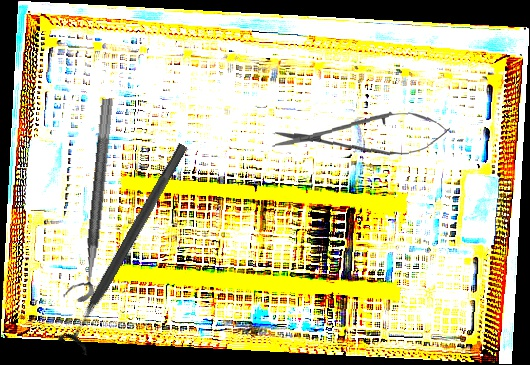Fixation Ring: (55, 136, 200, 357), (62, 96, 115, 304)
Micro Scissor: (270, 107, 452, 163)
